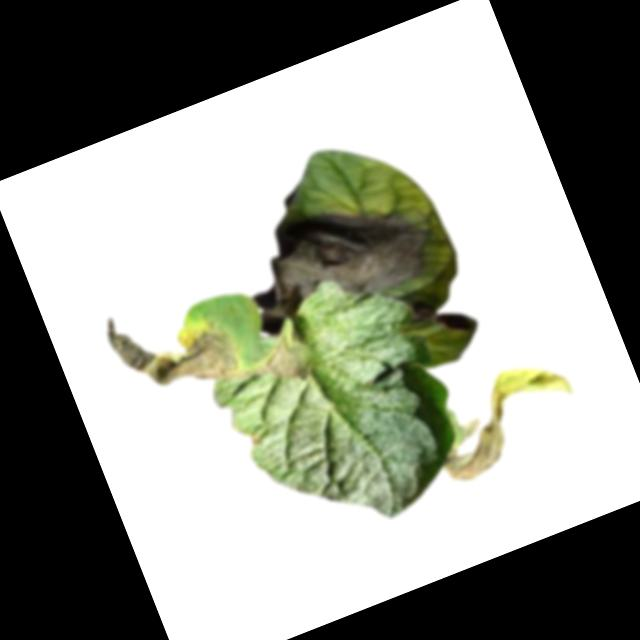Late_blight: (228, 174, 442, 336), (418, 347, 592, 489), (100, 277, 245, 414), (258, 334, 309, 387)
healthy: (188, 252, 483, 562)
